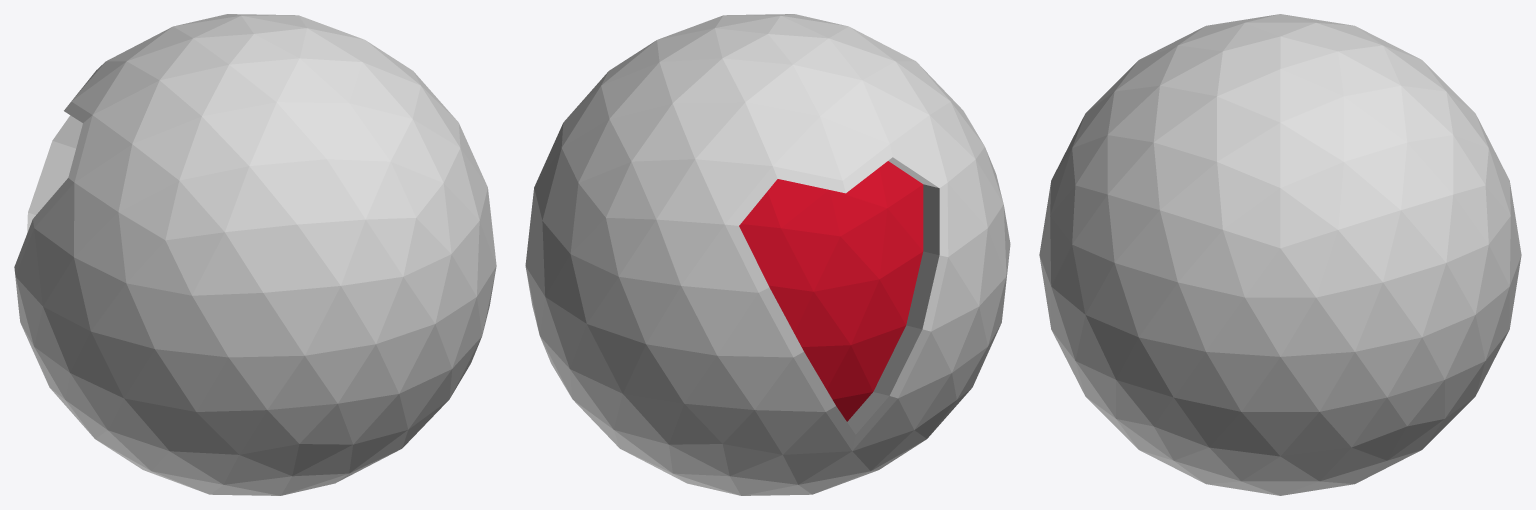
File: love_sphere.fbx
The picture shows the model from 3 angles, left to right: view 1: azimuth 30°, elevation 25°; view 2: azimuth 150°, elevation 25°; view 3: azimuth 270°, elevation 25°; orthographic projection.
Visible parts, largest first — view 1: Icosphere; view 2: Icosphere; view 3: Icosphere.
Part boxes in pixels (x1,y1,x2,y2): Icosphere: (14,14,496,495); Icosphere: (525,14,1010,495); Icosphere: (1039,14,1521,495).
Size of the model in its own units: 1200 by 1200 by 1200.
